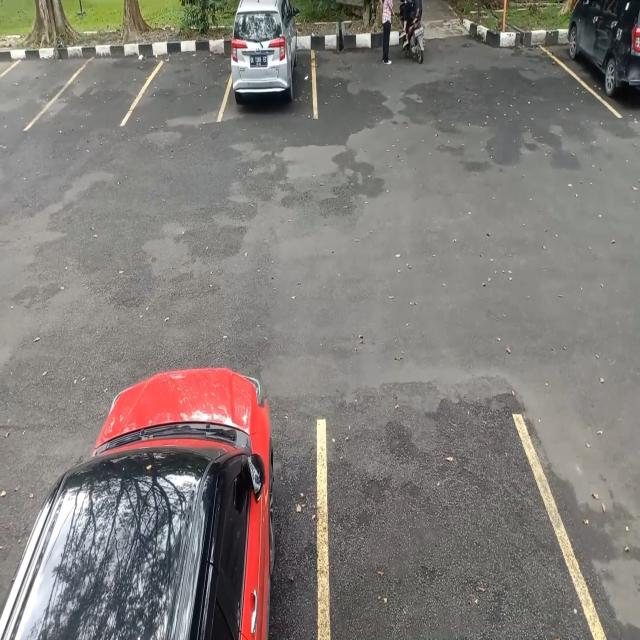empty: (320, 416, 592, 637), (142, 29, 231, 132), (61, 36, 147, 130), (1, 34, 62, 130)
occupied: (226, 0, 318, 115)
